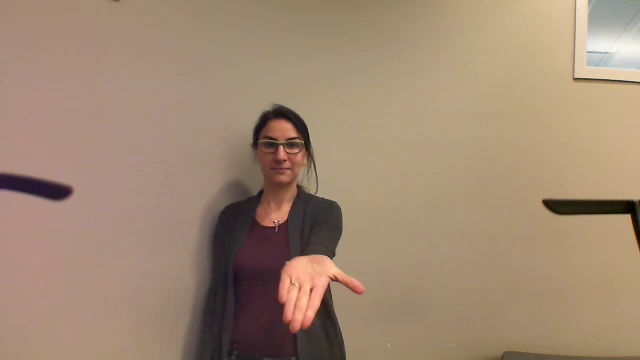land: (276, 254, 373, 337)
